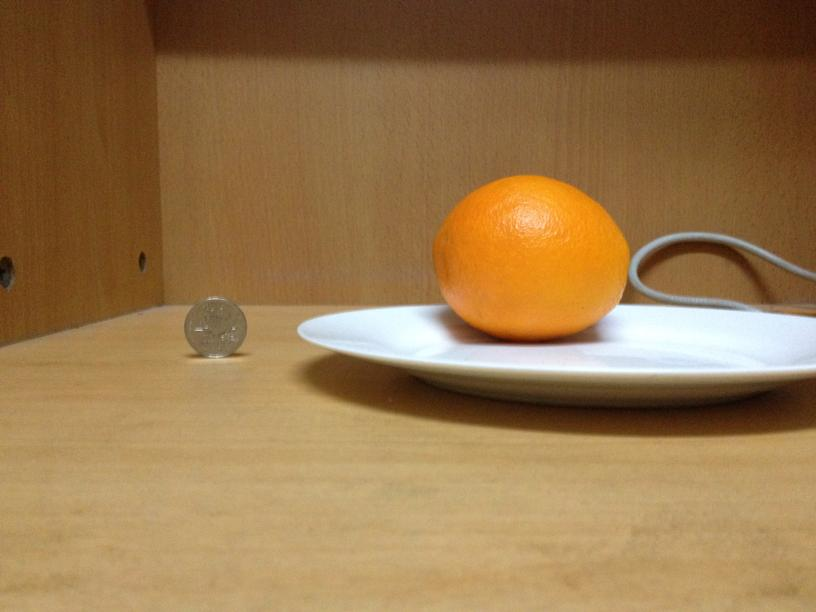coin: (183, 296, 248, 358)
orange: (430, 177, 630, 336)
